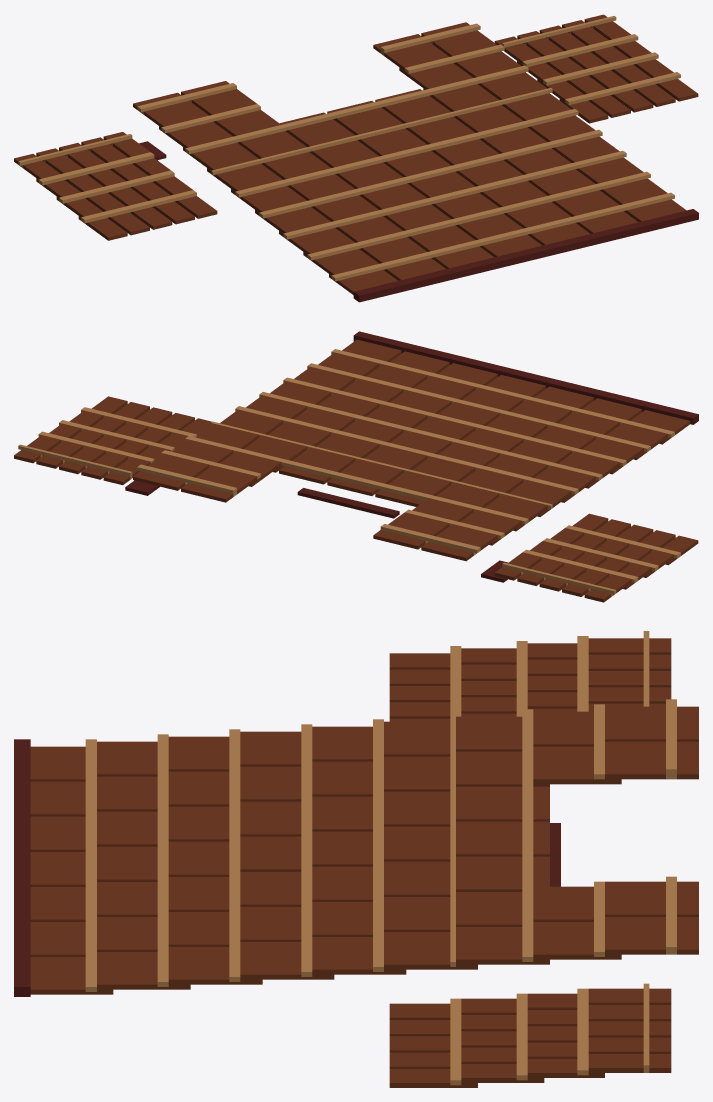
File: armor_lamellar.glb
3 views of the same model, one above another, from view 1: azimuth 30°, elevation 25°; view 2: azimuth 150°, elevation 25°; view 3: azimuth 270°, elevation 25° (orthographic). The views are drawn at different scales.
Parts seen in each view (by area): view 1: armor_lamellar:compound; view 2: armor_lamellar:compound; view 3: armor_lamellar:compound.
Part boxes in pixels (box(x1,y1,x2,y2)): armor_lamellar:compound: box(14, 14, 698, 302); armor_lamellar:compound: box(14, 331, 698, 602); armor_lamellar:compound: box(14, 631, 698, 1087).
Bounding box in the file's own units: 0.744 × 0.04 × 0.496.
